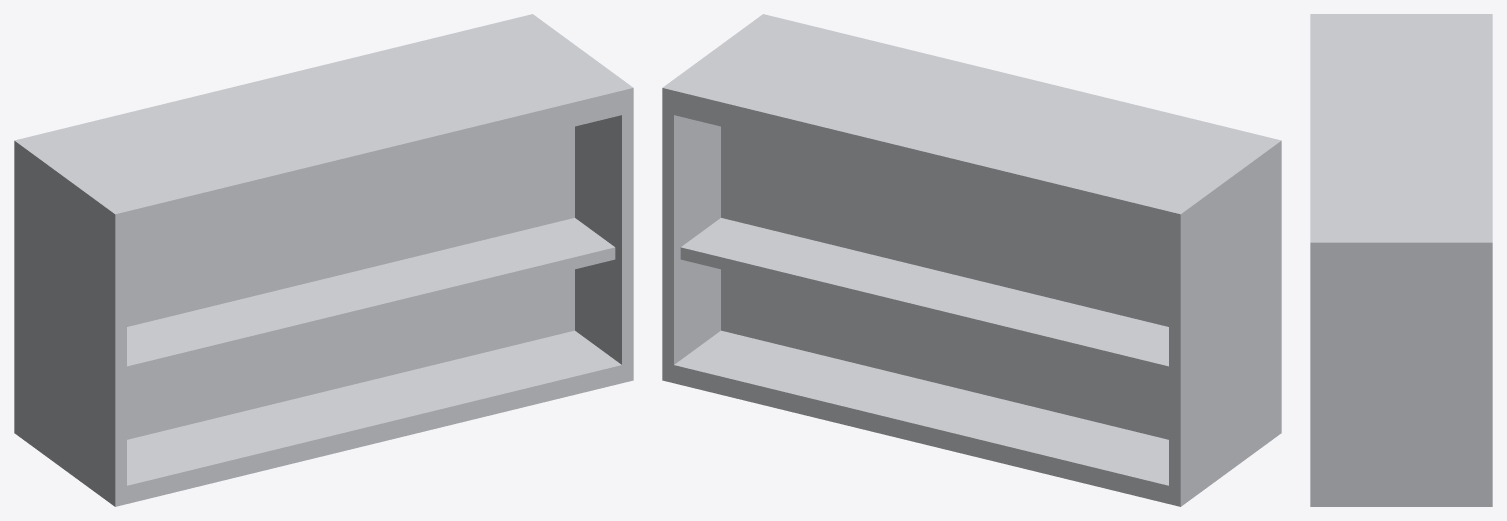
3 renders of one model, left to right at view 1: azimuth 30°, elevation 25°; view 2: azimuth 150°, elevation 25°; view 3: azimuth 270°, elevation 25°, orthographic. The views are drawn at different scales.
Parts seen in each view (by area): view 1: _305-627.dwg_2 (×2); view 2: _305-627.dwg_2 (×2); view 3: _305-627.dwg_2.
Boxes of the visible parts, x1,y1,x2,y2 form: _305-627.dwg_2 (×2): [14, 14, 633, 506]; _305-627.dwg_2 (×2): [662, 14, 1281, 506]; _305-627.dwg_2: [1310, 14, 1492, 506].
Size of the model in its own units: 35.04 by 11.81 by 18.9.
